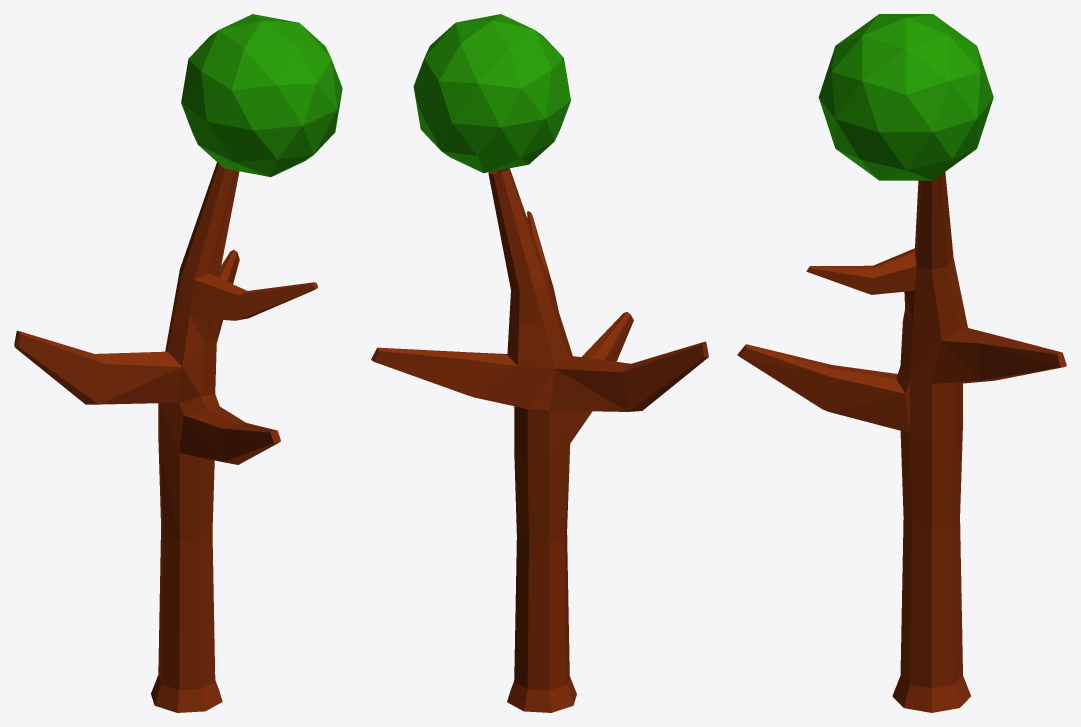
Rendered from tree2.dae.
3 views of the same model, side by side, from view 1: azimuth 30°, elevation 25°; view 2: azimuth 150°, elevation 25°; view 3: azimuth 270°, elevation 25° (orthographic). The views are drawn at different scales.
Visible parts, largest first — view 1: Cylinder_001; view 2: Cylinder_001; view 3: Cylinder_001.
Boxes of the visible parts, box(x1,y1,x2,y2) form: Cylinder_001: box(14, 14, 342, 712); Cylinder_001: box(371, 14, 708, 712); Cylinder_001: box(737, 14, 1066, 712).
Bounding box in the file's own units: 3.12 × 2.77 × 6.6.
